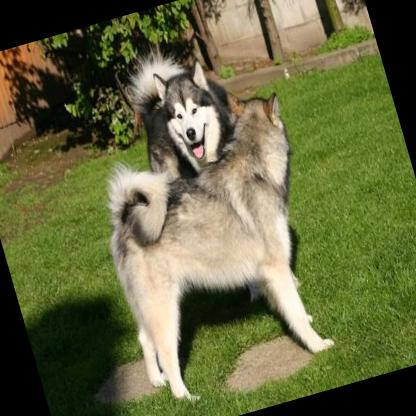malamute: (75, 76, 352, 411), (120, 40, 245, 182)
